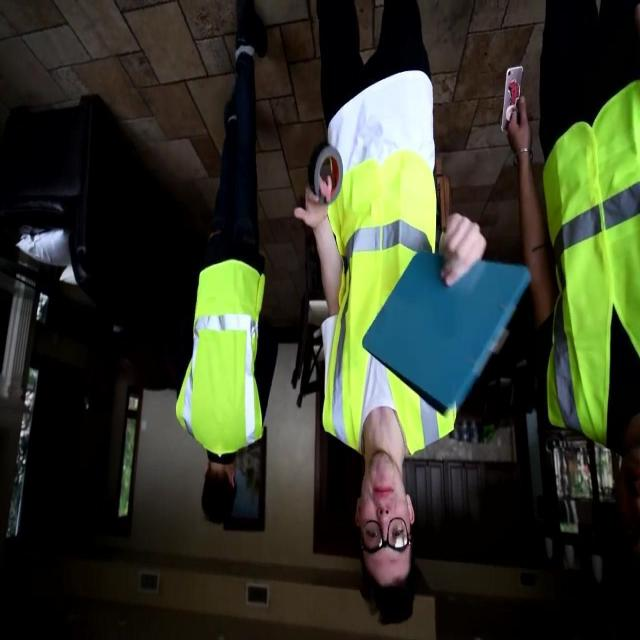jacket: (313, 148, 467, 470), (535, 85, 639, 460), (170, 254, 272, 462)
